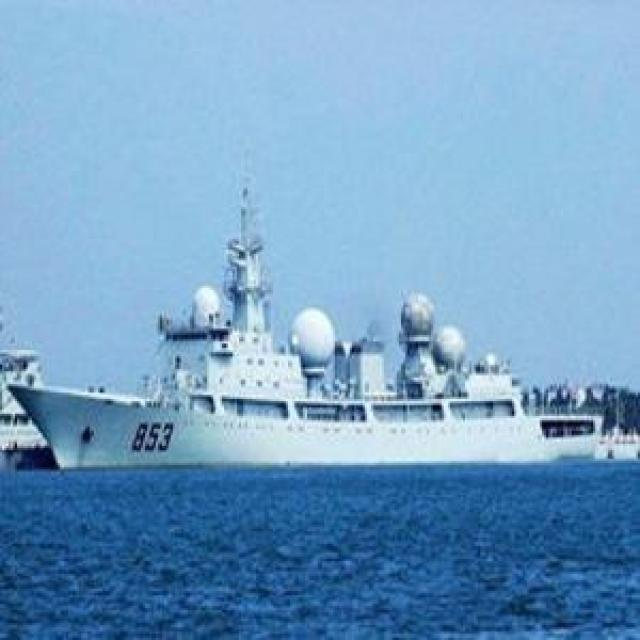navalvessels: (18, 200, 614, 473)
